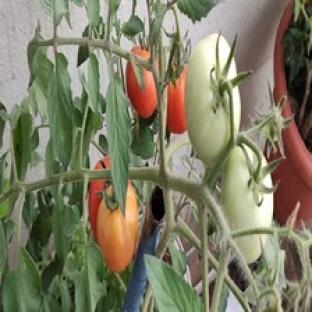Tomato: (186, 34, 231, 167), (222, 147, 272, 231), (98, 183, 139, 271), (126, 62, 157, 118), (168, 67, 186, 133), (88, 180, 105, 240)
